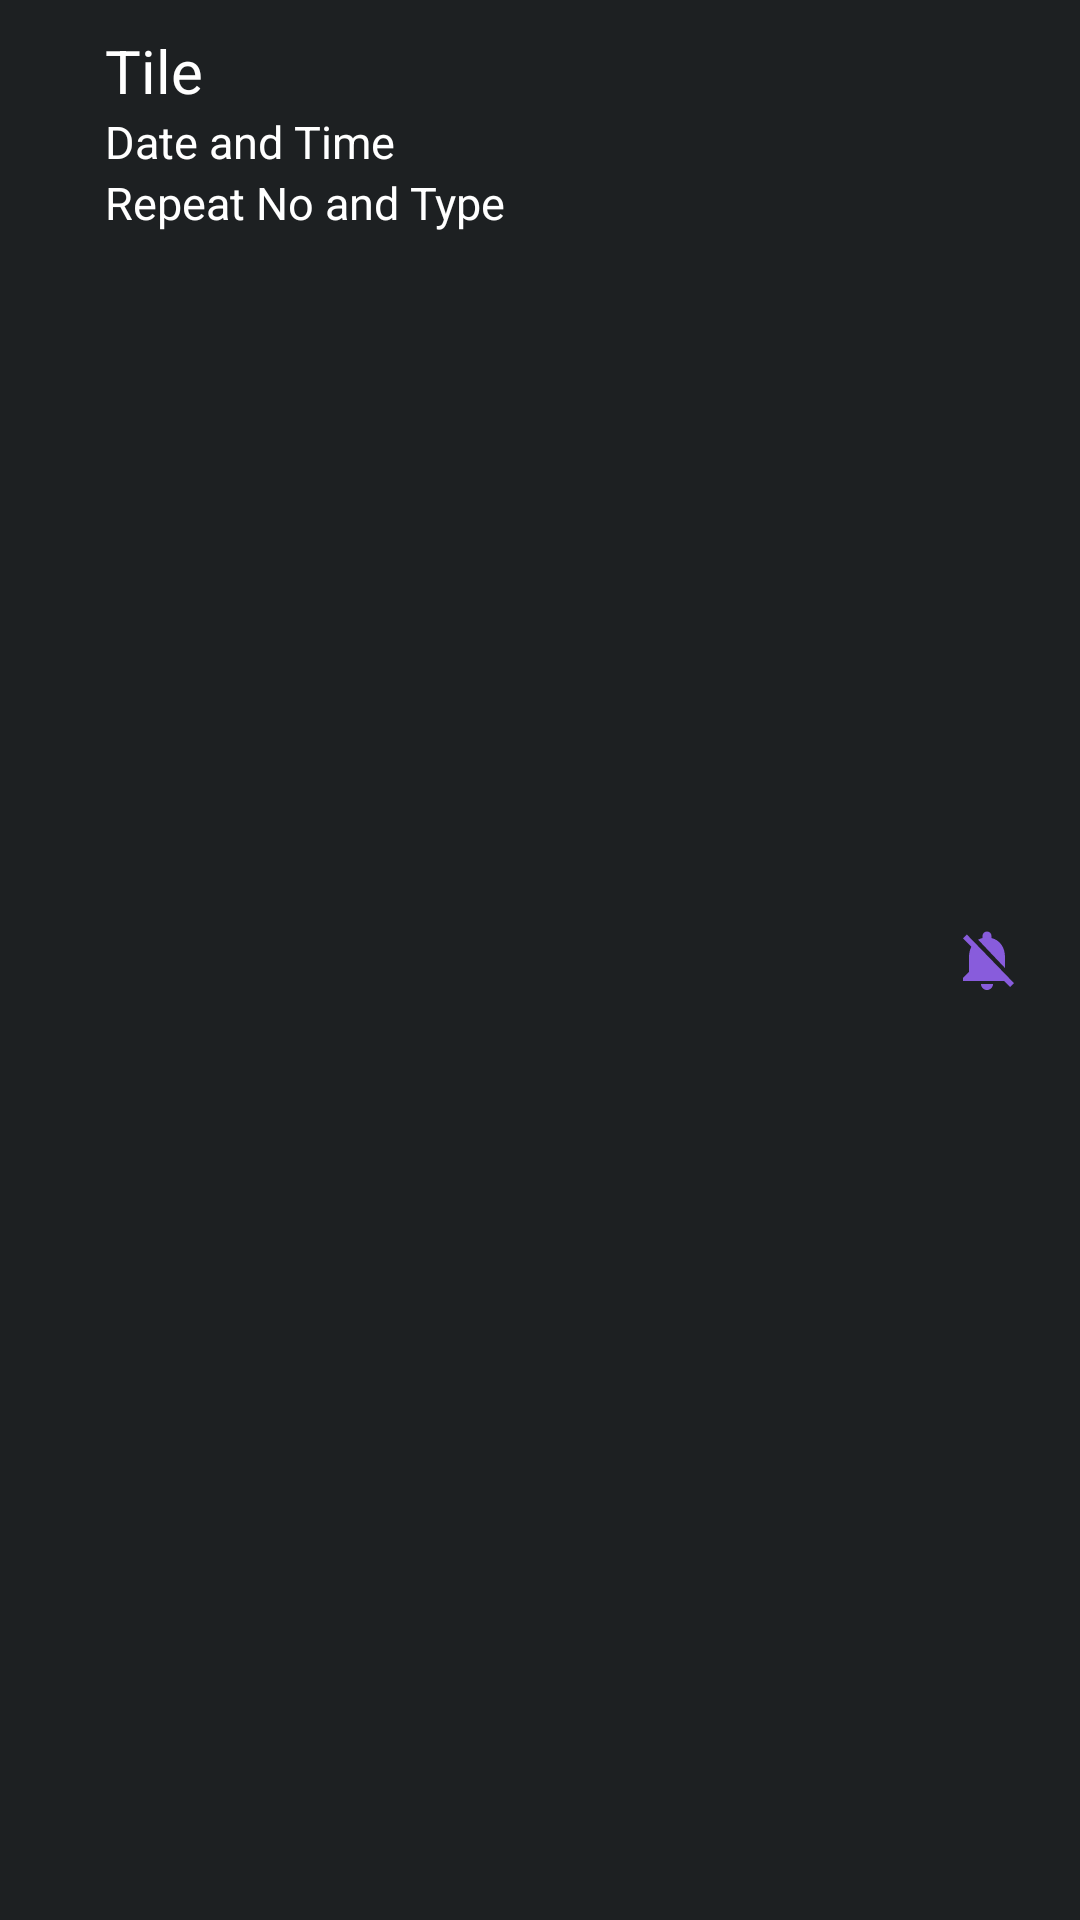

Screen size 1080w x 1920h. Icon name, then its center in pixels as point (x, y):
notifications off: point (988, 960)
